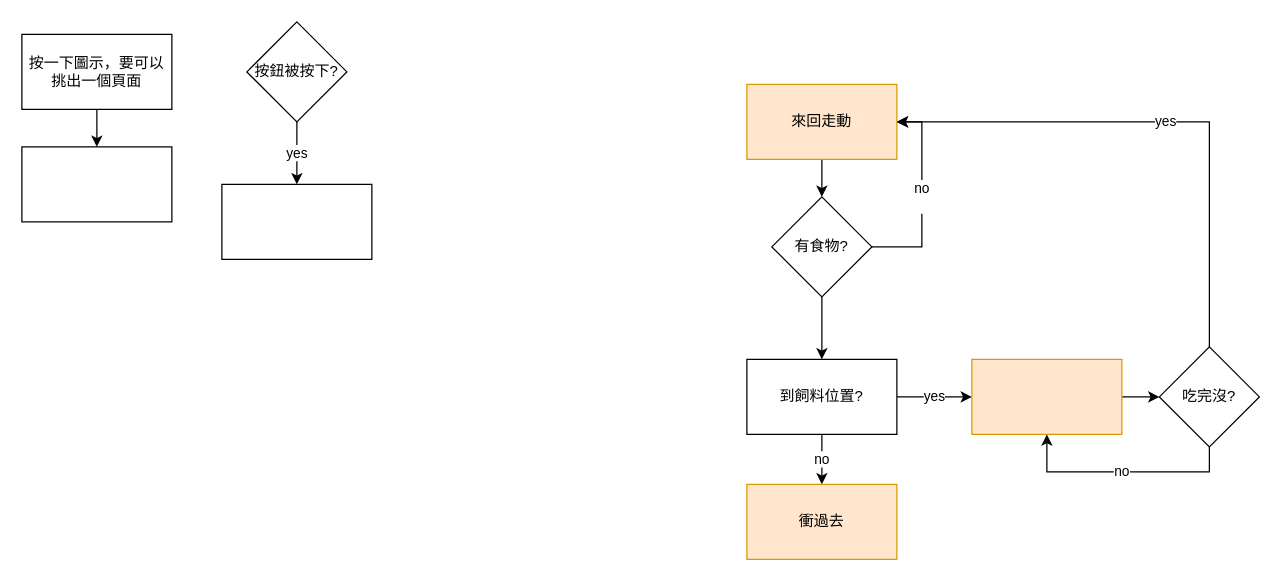
Image size: 1281x581. Some labels were removed from this diagram. Here are the shapes that lost their labels. From the top down, the centre of each, then its label:
point 96,184: 新增一個按鈕
point 296,221: 主畫面加一隻雞
point 1046,396: 低頭吃
